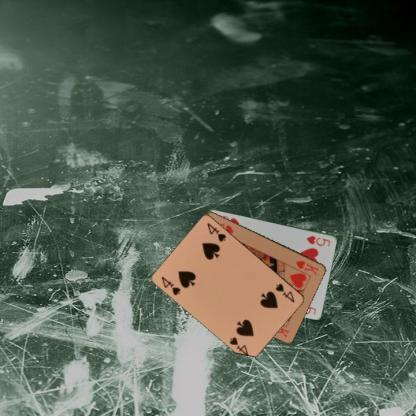4s: (274, 281, 296, 304), (159, 274, 182, 296)
5h: (304, 233, 332, 247)
Kh: (293, 258, 320, 276)
